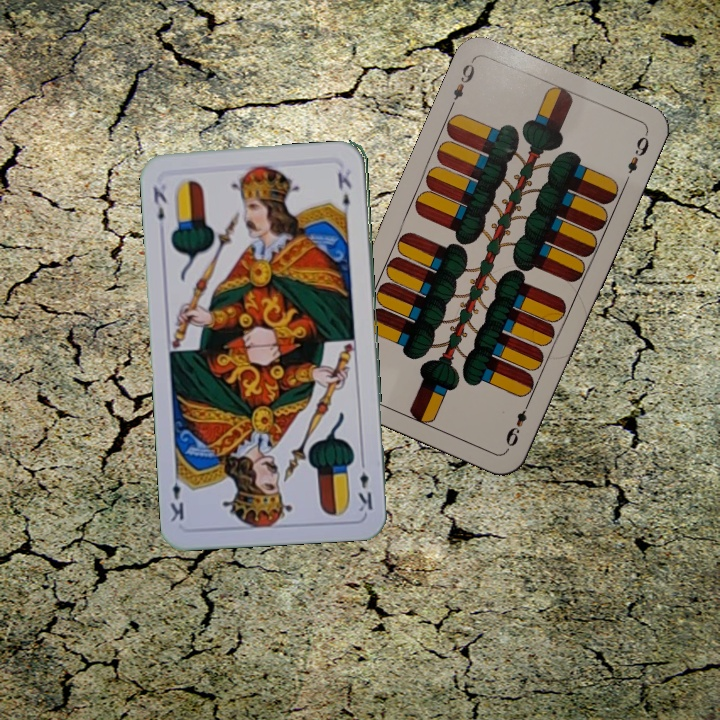E9: (446, 55, 478, 111), (501, 396, 534, 449)
EK: (354, 455, 375, 514), (149, 182, 170, 223)
